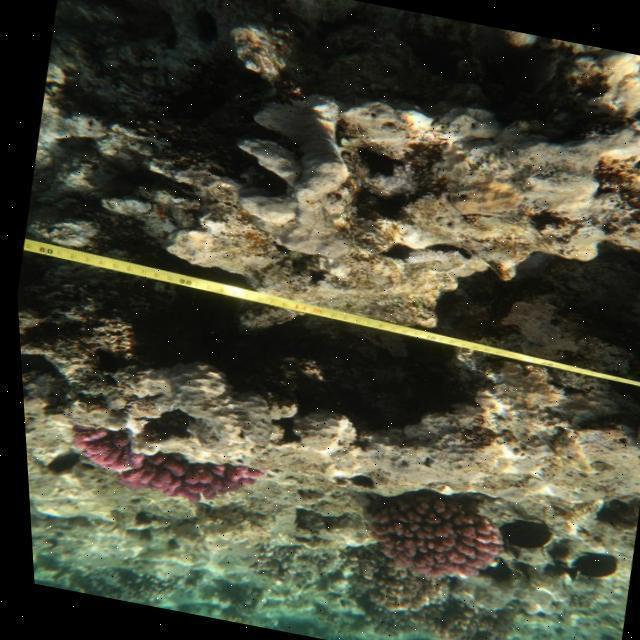Healthy Coral: (57, 427, 270, 527), (347, 476, 517, 598)
